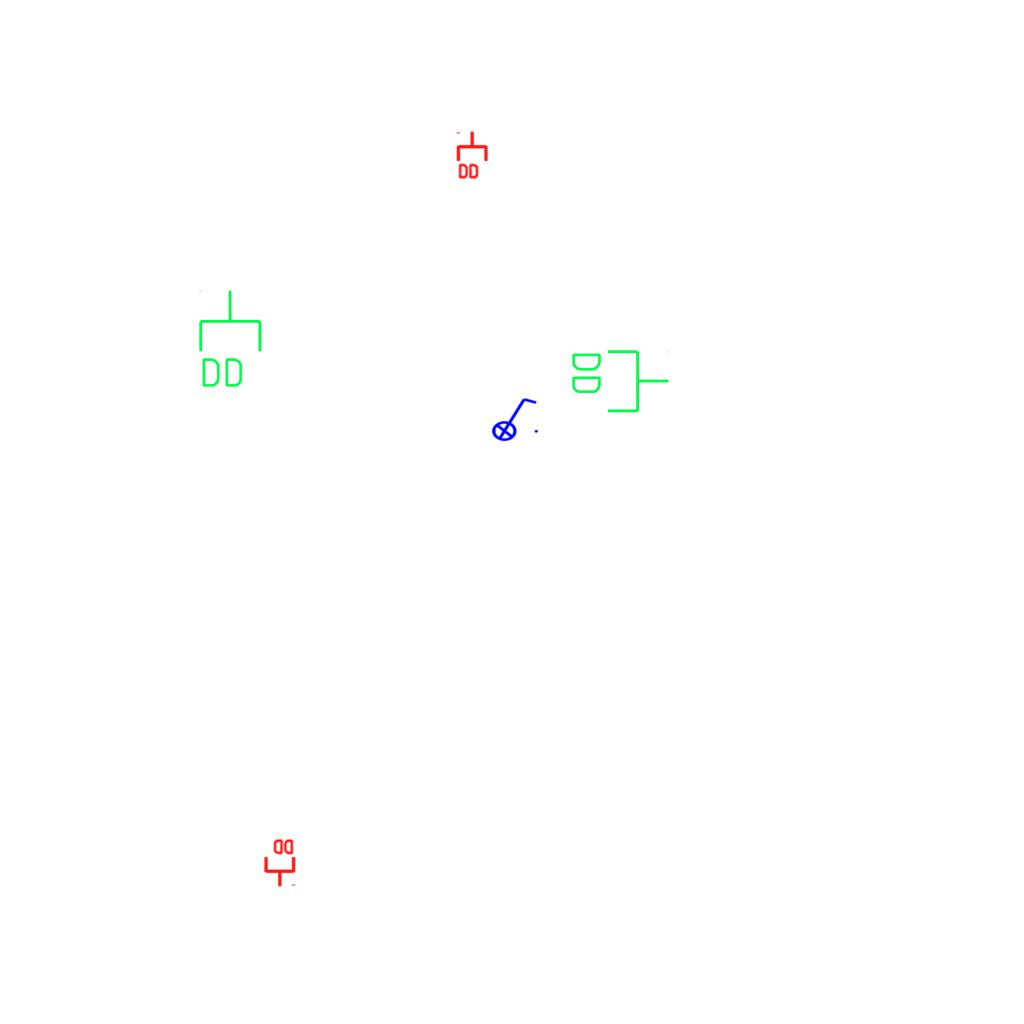Ausschalter_beleuchtet: (485, 394, 541, 442)
Datenanschluss_zweifach: (195, 288, 264, 391), (568, 346, 671, 415), (456, 130, 490, 181), (262, 837, 296, 888)
